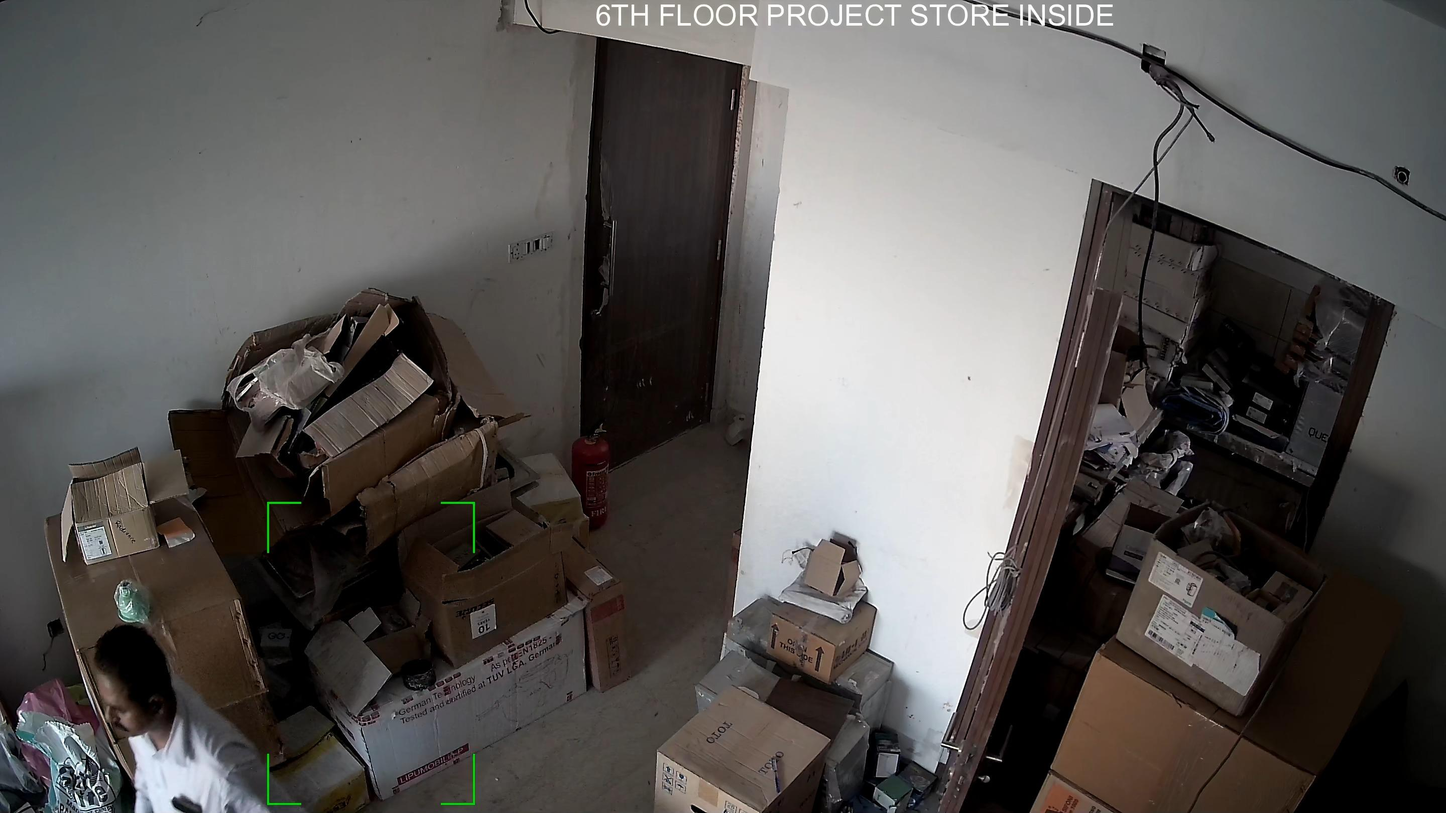Door-Close: (569, 31, 744, 483)
